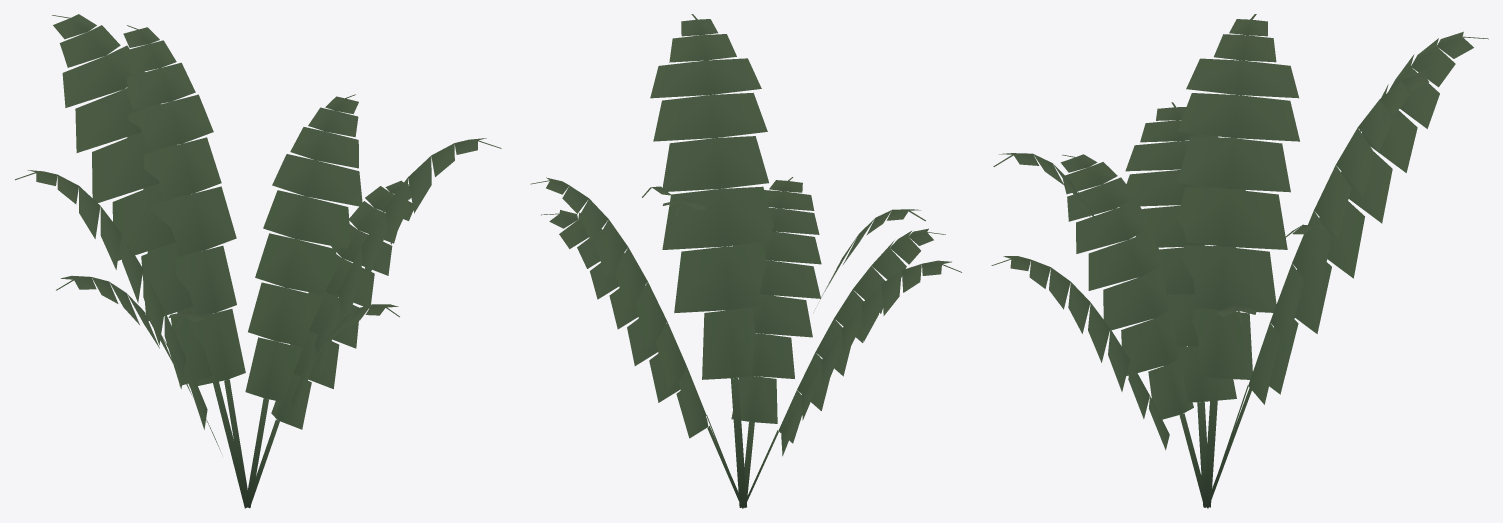
Rendered from farn_hoch.glb.
The picture shows the model from 3 angles, left to right: view 1: azimuth 30°, elevation 25°; view 2: azimuth 150°, elevation 25°; view 3: azimuth 270°, elevation 25°; orthographic projection. The views are drawn at different scales.
Parts seen in each view (by area): view 1: farn_hoch; view 2: farn_hoch; view 3: farn_hoch.
Part boxes in pixels (<box>): farn_hoch: <box>15,14,501,508</box>; farn_hoch: <box>530,14,961,508</box>; farn_hoch: <box>991,14,1488,508</box>.
Size of the model in its own units: 1.27 by 1.25 by 1.28.
